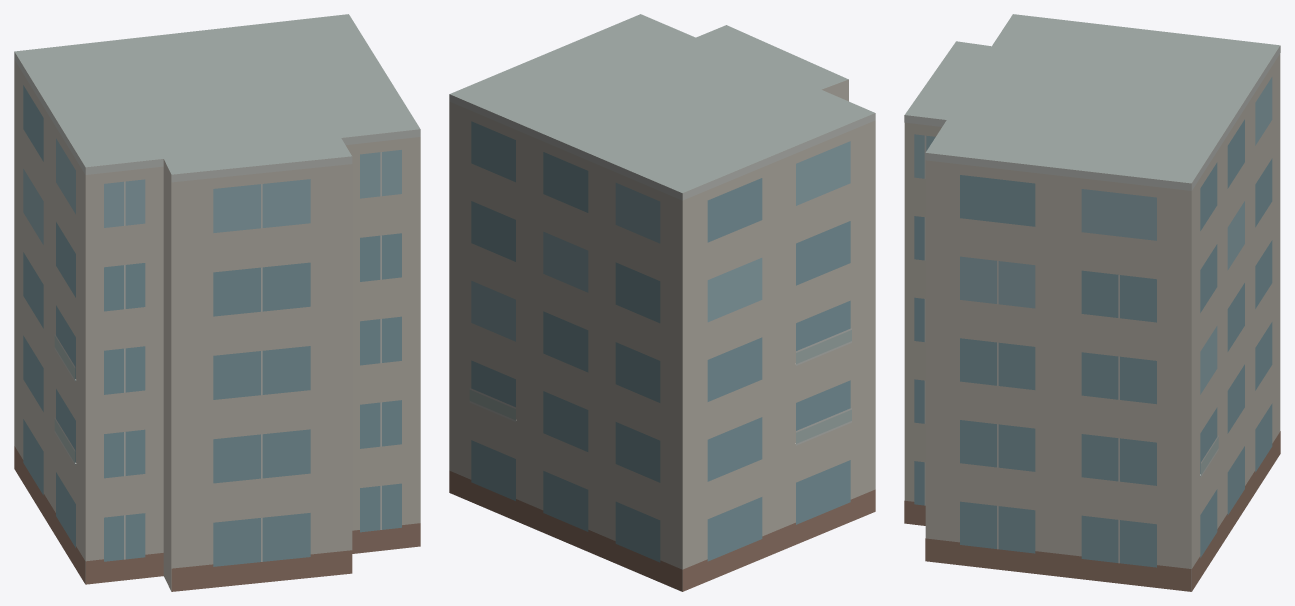
File: survey-upis-32876989.glb
The picture shows the model from 3 angles, left to right: view 1: azimuth 30°, elevation 25°; view 2: azimuth 150°, elevation 25°; view 3: azimuth 270°, elevation 25°; orthographic projection. The views are drawn at different scales.
Parts seen in each view (by area): view 1: survey-upis-32876989.tmp; view 2: survey-upis-32876989.tmp; view 3: survey-upis-32876989.tmp.
Boxes of the visible parts, box(x1,y1,x2,y2) form: survey-upis-32876989.tmp: box(14, 14, 420, 591); survey-upis-32876989.tmp: box(449, 14, 875, 591); survey-upis-32876989.tmp: box(904, 14, 1280, 591).
Bounding box in the file's own units: 11.75 × 13.2 × 11.02.
